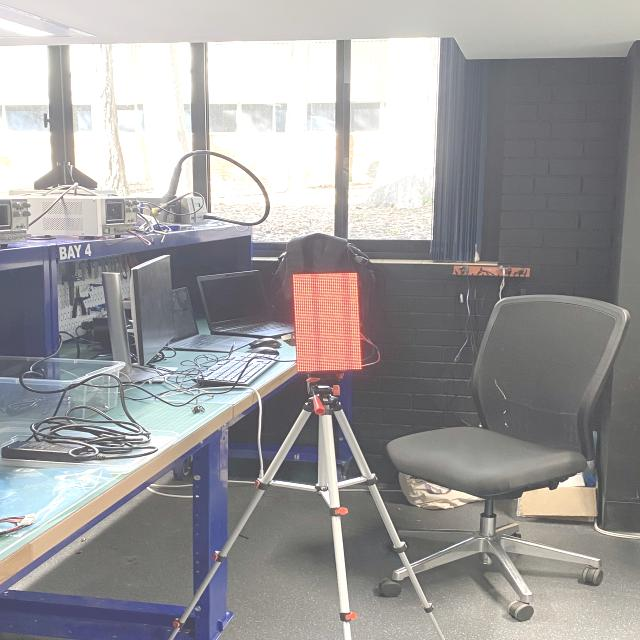matrix: (280, 269, 386, 379)
